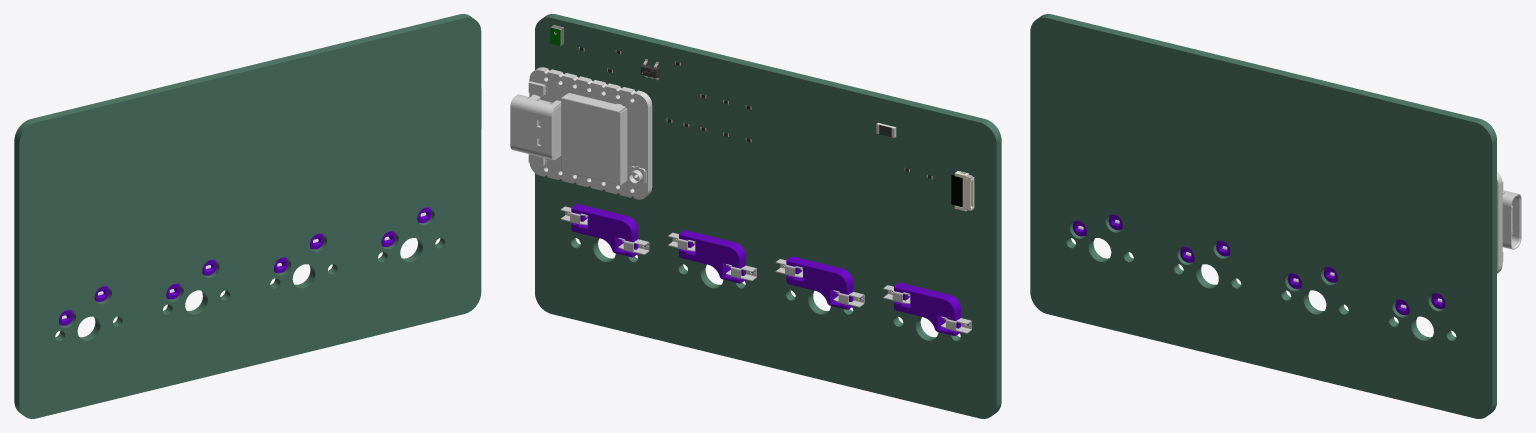
Rendered from credit-macro-pad.glb.
The picture shows the model from 3 angles, left to right: view 1: azimuth 30°, elevation 25°; view 2: azimuth 150°, elevation 25°; view 3: azimuth 330°, elevation 25°; orthographic projection.
Parts seen in each view (by area): view 1: o1.24; view 2: o1.24, o1.11.1.1.6, o1.11.1.1.2, o1.11.1.1.1.1.19, o1.7.1, o1.22.1, o1.6.1, o1.10.1, o1.15.1, o1.11.1.1.1.1.23; view 3: o1.24, o1.11.1.1.1.1.19, o1.11.1.1.6.
Part boxes in pixels (x1=…): o1.24: x1=14, y1=14, x2=481, y2=418; o1.24: x1=535, y1=14, x2=1001, y2=418; o1.11.1.1.6: x1=529, y1=67, x2=652, y2=199; o1.11.1.1.2: x1=561, y1=93, x2=627, y2=185; o1.11.1.1.1.1.19: x1=510, y1=94, x2=561, y2=160; o1.7.1: x1=560, y1=204, x2=649, y2=257; o1.22.1: x1=775, y1=256, x2=864, y2=309; o1.6.1: x1=668, y1=230, x2=756, y2=283; o1.10.1: x1=883, y1=282, x2=971, y2=335; o1.15.1: x1=951, y1=171, x2=974, y2=211; o1.11.1.1.1.1.23: x1=552, y1=105, x2=561, y2=157; o1.24: x1=1030, y1=14, x2=1496, y2=418; o1.11.1.1.1.1.19: x1=1502, y1=190, x2=1521, y2=249; o1.11.1.1.6: x1=1497, y1=171, x2=1502, y2=273.
Size of the model in its own units: 0.0833 by 0.05 by 0.00606.
